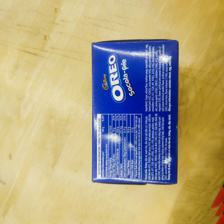Oreo: (90, 38, 180, 187)
